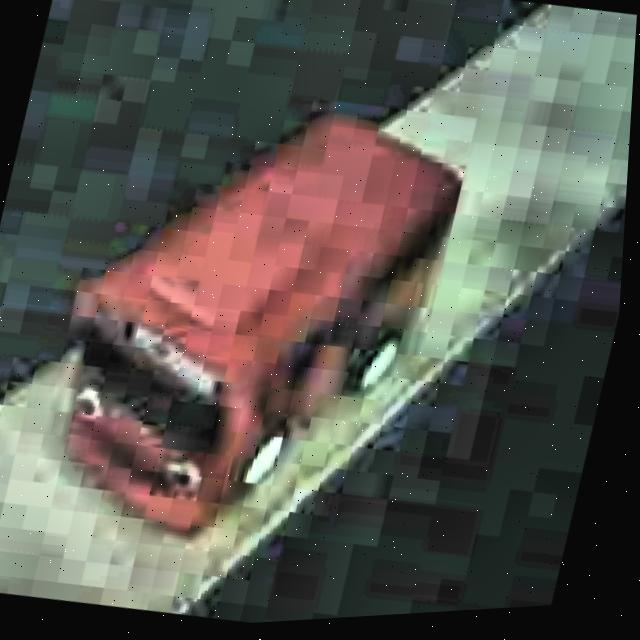bus: (28, 62, 479, 578)
